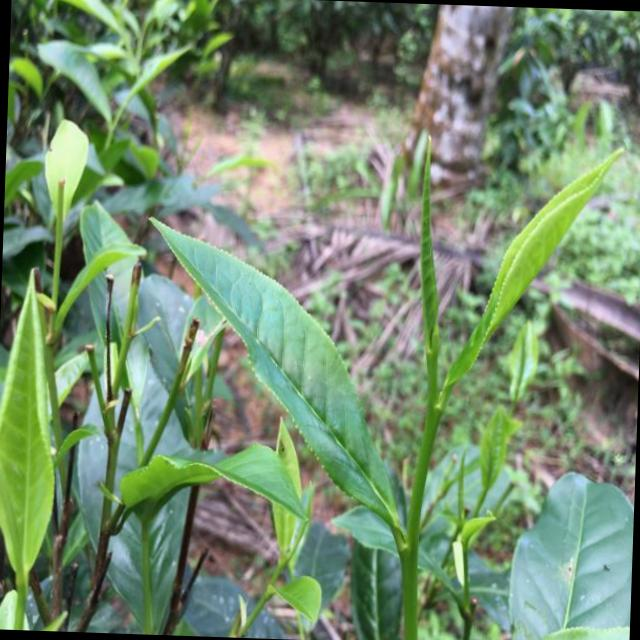Stem: (426, 410, 438, 428), (17, 589, 25, 605), (108, 125, 114, 132), (265, 591, 271, 597)
